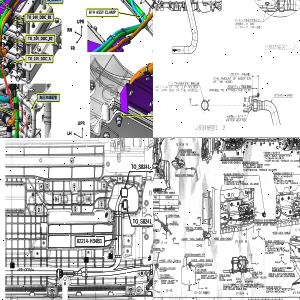PartNumber: (76, 238, 102, 244), (274, 93, 293, 97), (256, 218, 272, 222), (264, 151, 280, 154), (242, 161, 258, 164), (274, 172, 290, 175), (224, 173, 240, 176), (265, 240, 281, 243), (266, 285, 282, 288), (180, 148, 192, 152), (186, 226, 202, 229), (196, 263, 212, 266), (222, 157, 238, 159), (160, 267, 176, 269), (153, 200, 158, 203)
